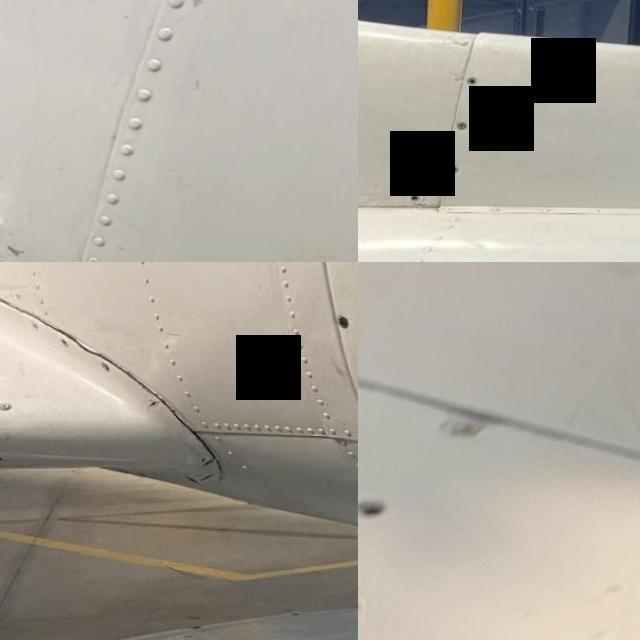Crack: (70, 316, 162, 396), (165, 404, 232, 460), (0, 262, 24, 298), (0, 416, 25, 438)
Missing_Fastener: (358, 496, 388, 520), (358, 596, 371, 626), (448, 164, 464, 176), (412, 192, 426, 202), (469, 76, 481, 87), (205, 473, 218, 482), (207, 460, 221, 468), (152, 402, 164, 411), (62, 338, 72, 348), (0, 455, 4, 463)
